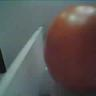tomato: (44, 10, 96, 92)
